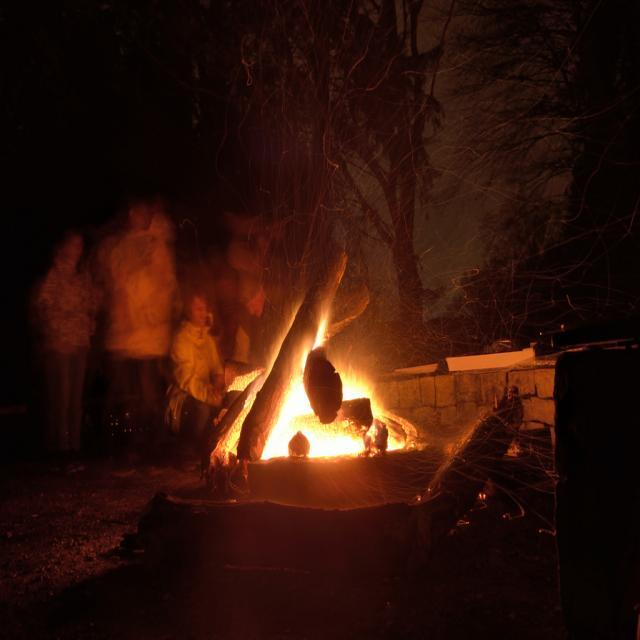Fire: (280, 380, 315, 460), (319, 426, 366, 459)
